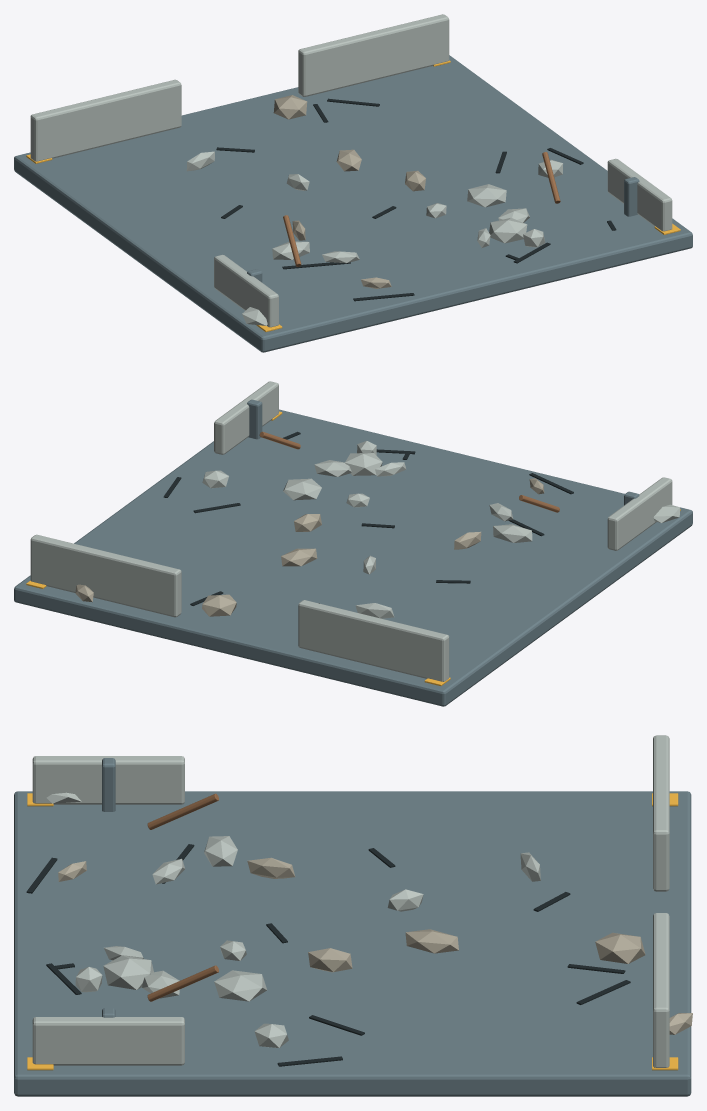
Rendered from command_operations_d3.glb.
The picture shows the model from 3 angles, top to bottom: view 1: azimuth 30°, elevation 25°; view 2: azimuth 150°, elevation 25°; view 3: azimuth 270°, elevation 25°; orthographic projection. The views are drawn at different scales.
Parts seen in each view (by area): view 1: Foundation.003, End bulkhead.013, End bulkhead.012, Side pressure panel.021, Side pressure panel.022, Bounded fractured debris.009, Bounded fractured debris.013, Bounded fractured debris.008, External armor rib.022; view 2: Foundation.003, End bulkhead.012, End bulkhead.013, Side pressure panel.021, Side pressure panel.022, Bounded fractured debris.009, Bounded fractured debris.013, Bounded fractured debris.008, Bounded fractured debris.018, Bounded fractured debris.017, External armor rib.022; view 3: Foundation.003, Side pressure panel.022, Side pressure panel.021, End bulkhead.012, End bulkhead.013, Bounded fractured debris.009, Bounded fractured debris.013, Bounded fractured debris.008, Bounded fractured debris.017, Bounded fractured debris.020, Bounded fractured debris.018, Bounded fractured debris.023 (+7 smaller).
Boxes of the visible parts, x1,y1,x2,y2 form: Foundation.003: (14,55,692,352); End bulkhead.013: (298,14,449,96); End bulkhead.012: (30,79,181,161); Side pressure panel.021: (214,254,278,327); Side pressure panel.022: (607,158,672,231); Bounded fractured debris.009: (489,218,527,243); Bounded fractured debris.013: (467,184,506,207); Bounded fractured debris.008: (273,95,307,119); External armor rib.022: (624,177,639,216); Foundation.003: (14,409,692,706); End bulkhead.012: (298,600,449,681); End bulkhead.013: (30,534,181,617); Side pressure panel.021: (607,477,672,550); Side pressure panel.022: (214,381,278,454); Bounded fractured debris.009: (345,453,382,475); Bounded fractured debris.013: (283,478,321,500); Bounded fractured debris.008: (202,594,236,616); Bounded fractured debris.018: (493,524,532,542); Bounded fractured debris.017: (281,548,317,566); External armor rib.022: (247,399,262,439); Foundation.003: (14,791,691,1096); Side pressure panel.022: (32,1017,184,1065); Side pressure panel.021: (32,756,184,804); End bulkhead.012: (653,735,669,891); End bulkhead.013: (653,913,669,1067); Bounded fractured debris.009: (103,955,153,989); Bounded fractured debris.013: (214,970,266,1001); Bounded fractured debris.008: (595,932,645,963); Bounded fractured debris.017: (405,929,458,953); Bounded fractured debris.020: (308,948,352,972); Bounded fractured debris.018: (204,836,237,866); Bounded fractured debris.023: (247,857,295,878).
Size of the model in its own units: 9.01 by 1.22 by 9.02.
